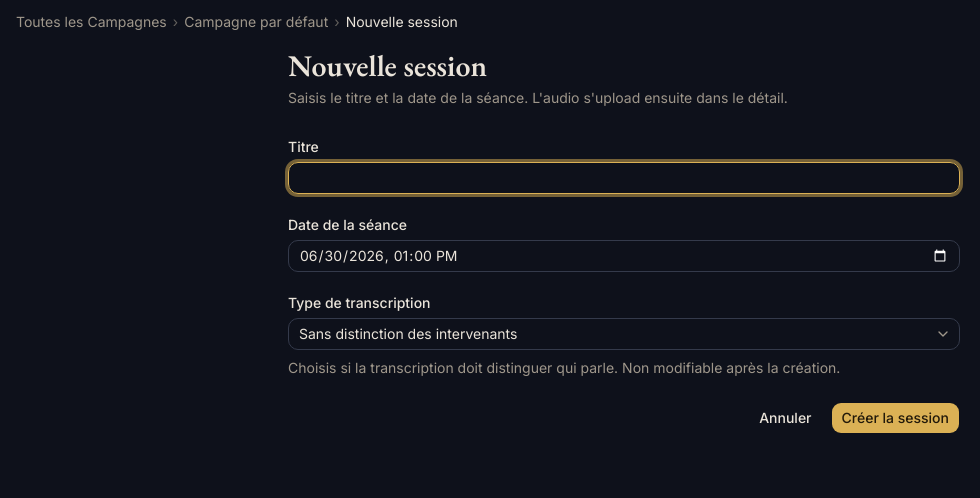
/jdr/campaigns/[campId]/sessions/new page › surfaces a generic error when the POST fails
Type "Session 7" into the field labelled "Titre". click: (624, 178)
box: left=288, top=162, right=960, bottom=194
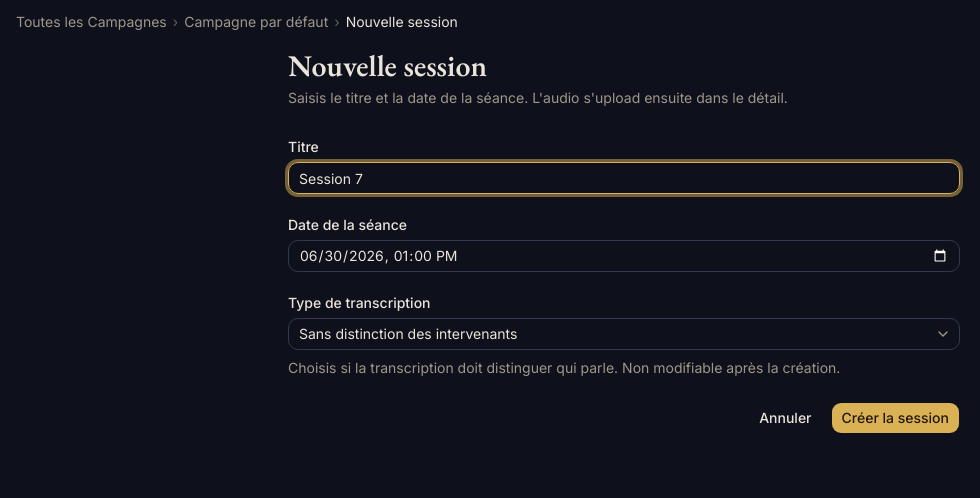
Click the button "Créer la session". click: (895, 418)
box: left=830, top=402, right=960, bottom=434
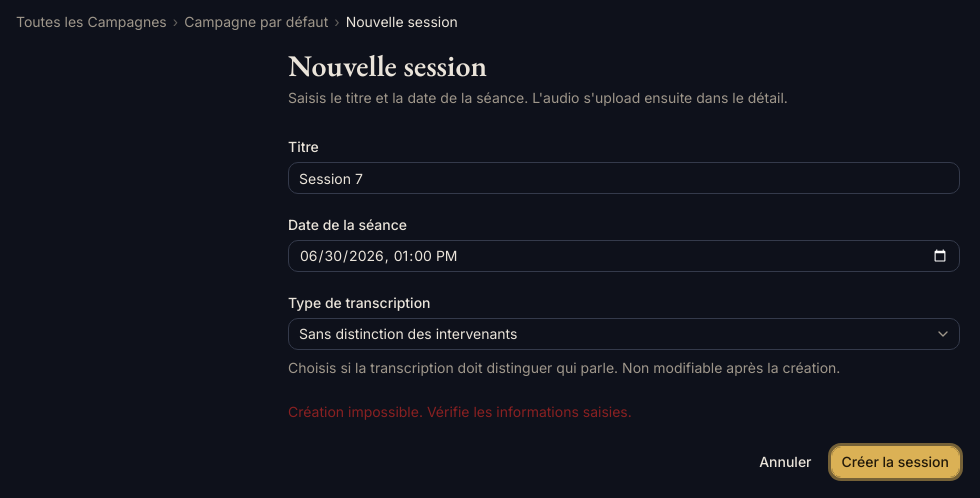
Result: the text "Création impossible. Vérifie les informations saisies." is shown at left=288, top=403, right=632, bottom=420
